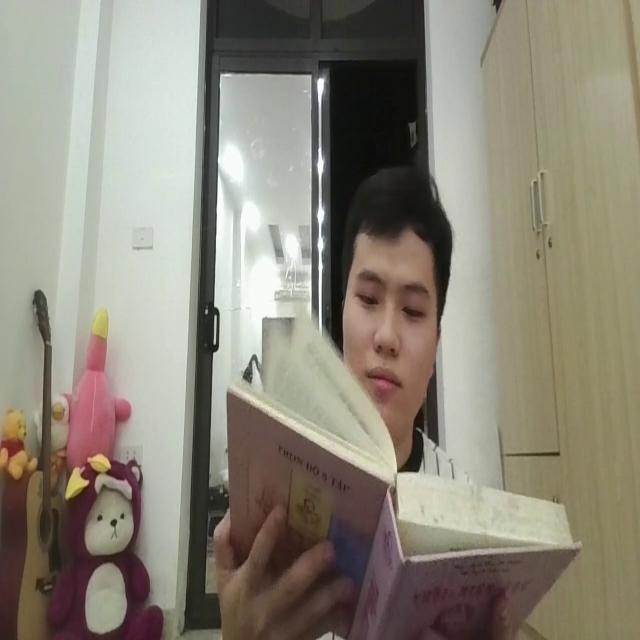book: (222, 299, 583, 640)
student: (336, 149, 446, 419)
